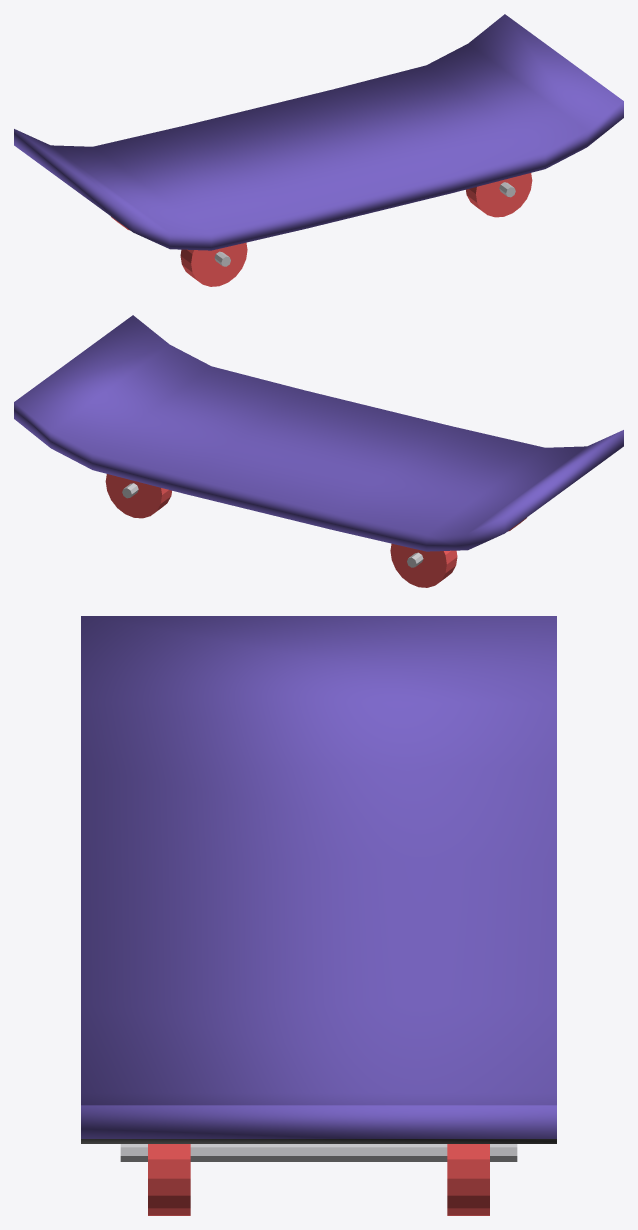
File: Skateboard.fbx
3 views of the same model, one above another, from view 1: azimuth 30°, elevation 25°; view 2: azimuth 150°, elevation 25°; view 3: azimuth 270°, elevation 25° (orthographic). The views are drawn at different scales.
Visible parts, largest first — view 1: Deck, Wheel.003, Wheel.001; view 2: Deck, Wheel.002, Wheel; view 3: Deck, Axle, Wheel, Wheel.001.
Boxes of the visible parts, box(x1,y1,x2,y2) form: Deck: box(14, 14, 623, 250); Wheel.003: box(180, 242, 247, 286); Wheel.001: box(466, 173, 532, 217); Deck: box(14, 315, 623, 551); Wheel.002: box(390, 543, 457, 587); Wheel: box(105, 474, 171, 518); Deck: box(81, 616, 556, 1143); Axle: box(120, 1144, 517, 1161); Wheel: box(447, 1144, 489, 1215); Wheel.001: box(148, 1144, 190, 1215).
Bounding box in the file's own units: 200 × 42 × 84.
